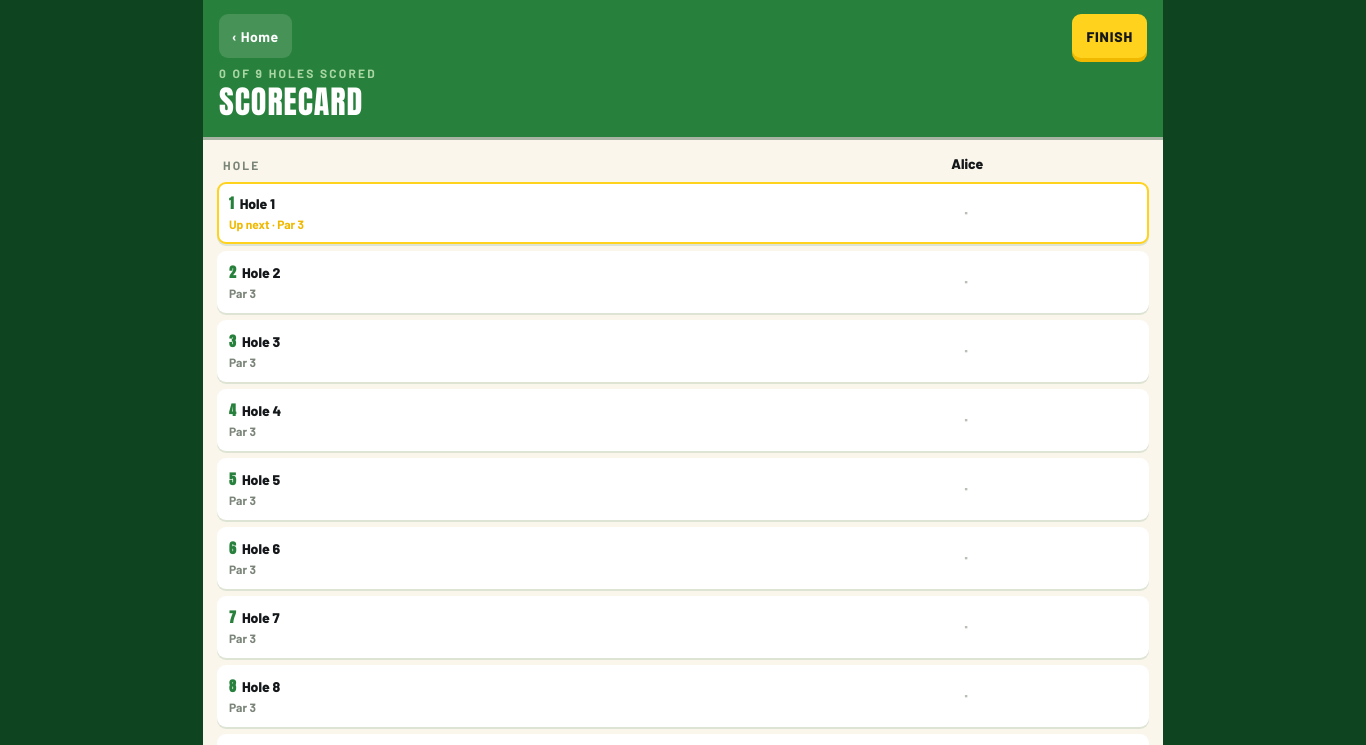
Test: Scorecard › Finish Round › stays on the Scorecard when the blank-Holes warning is dismissed
The width and height of the screenshot is (1366, 745).
Click the button "Finish": [1110, 36] box [1072,14,1147,58]
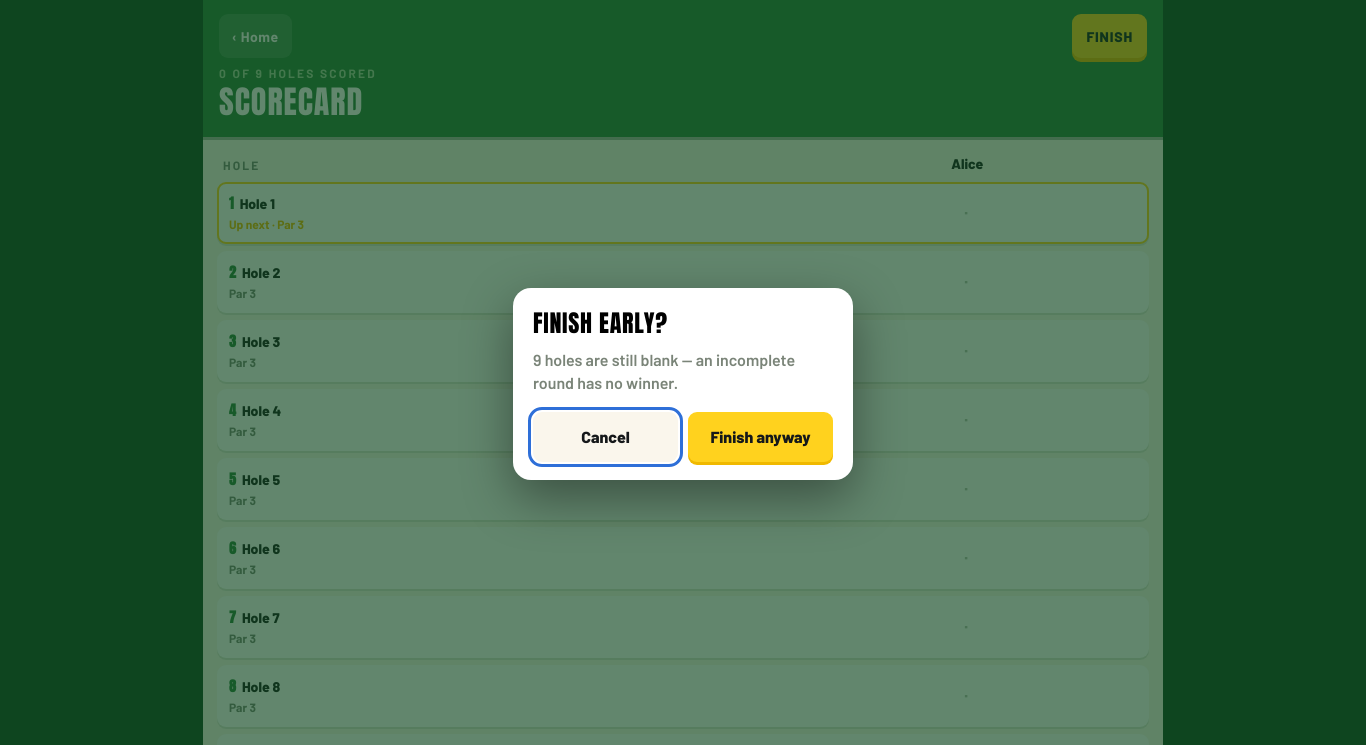
Click the button "Cancel": [606, 437] box [533,412,678,462]
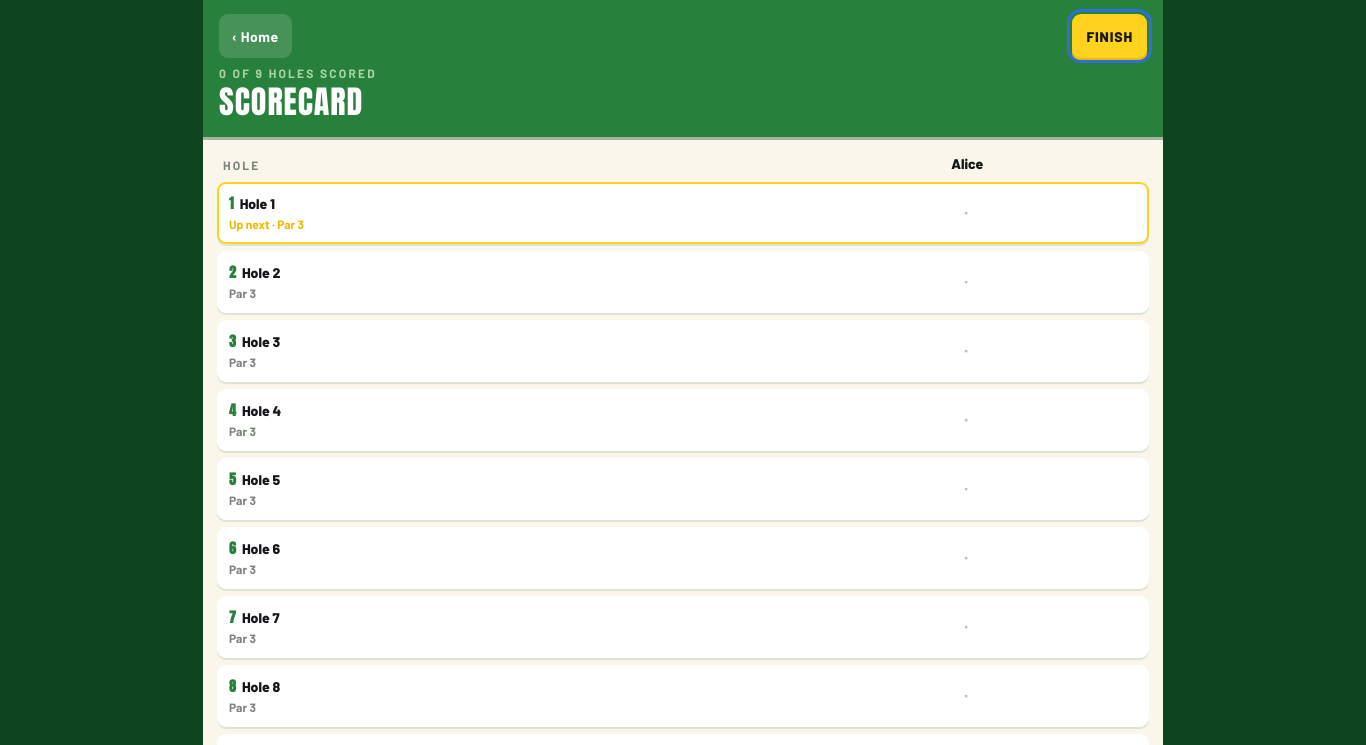
Now the dialog is gone
